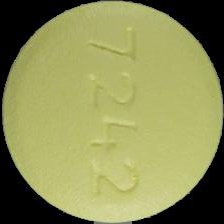67046-644: (0, 0, 224, 224)
